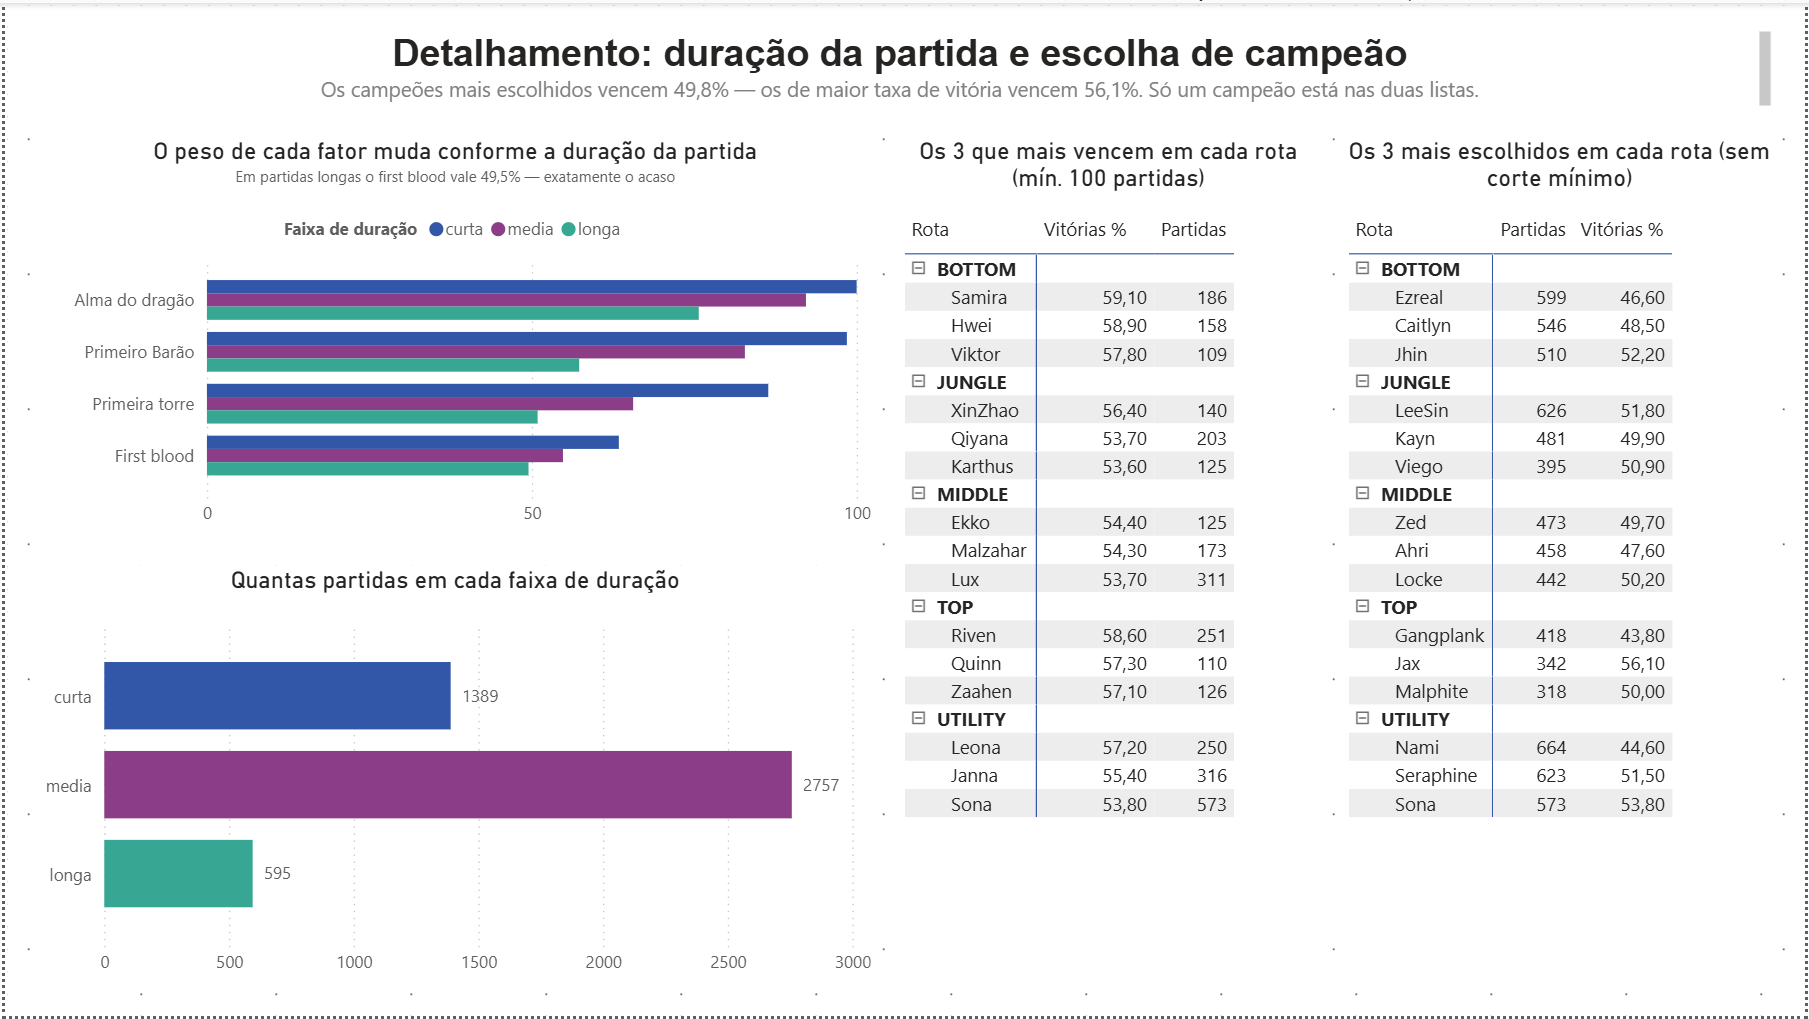

The dashboard page shown, as its layout file describes it:
{"tool":"powerbi","page":{"name":"Detalhamento","canvas":[1280,720],"ordinal":1},"visuals":[{"type":"textbox","box":[20,15,1240,70],"z":0},{"type":"clusteredBarChart","title":"O peso de cada fator muda conforme a duração da partida","fields":{"Category":["public vw_fatores_por_duracao.fator"],"Y":["Avg(public vw_fatores_por_duracao.taxa_vitoria)"],"Series":["public vw_fatores_por_duracao.faixa_duracao"]},"box":[20,95,600,295],"z":1000},{"type":"clusteredBarChart","title":"Quantas partidas em cada faixa de duração","fields":{"Y":["Sum(public vw_duracao.total_partidas)"],"Category":["public vw_duracao.faixa_duracao"]},"box":[20,400,600,300],"z":2000},{"type":"pivotTable","title":"Os 3 que mais vencem em cada rota (mín. 100 partidas)","fields":{"Rows":["public vw_top_campeoes.rota","public vw_top_campeoes.nome_campeao"],"Values":["Avg(public vw_top_campeoes.taxa_vitoria)","Sum(public vw_top_campeoes.partidas)"]},"box":[635,95,300,605],"z":3000},{"type":"pivotTable","title":"Os 3 mais escolhidos em cada rota (sem corte mínimo)","fields":{"Rows":["public vw_campeoes_mais_usados.rota","public vw_campeoes_mais_usados.nome_campeao"],"Values":["Sum(public vw_campeoes_mais_usados.partidas)","Sum(public vw_campeoes_mais_usados.taxa_vitoria)"]},"box":[950,95,310,605],"z":4000}]}

Visuals, with their boxes in screenshot pixels (x1, y1, x2, y2), scaled from the page's 1280x720 canvas onto the 1809x1019 screenshot:
textbox: box=[28, 21, 1781, 120]
"O peso de cada fator muda conforme a duração da partida" clusteredBarChart: box=[28, 134, 876, 552]
"Quantas partidas em cada faixa de duração" clusteredBarChart: box=[28, 566, 876, 991]
"Os 3 que mais vencem em cada rota (mín. 100 partidas)" pivotTable: box=[897, 134, 1321, 991]
"Os 3 mais escolhidos em cada rota (sem corte mínimo)" pivotTable: box=[1343, 134, 1781, 991]
